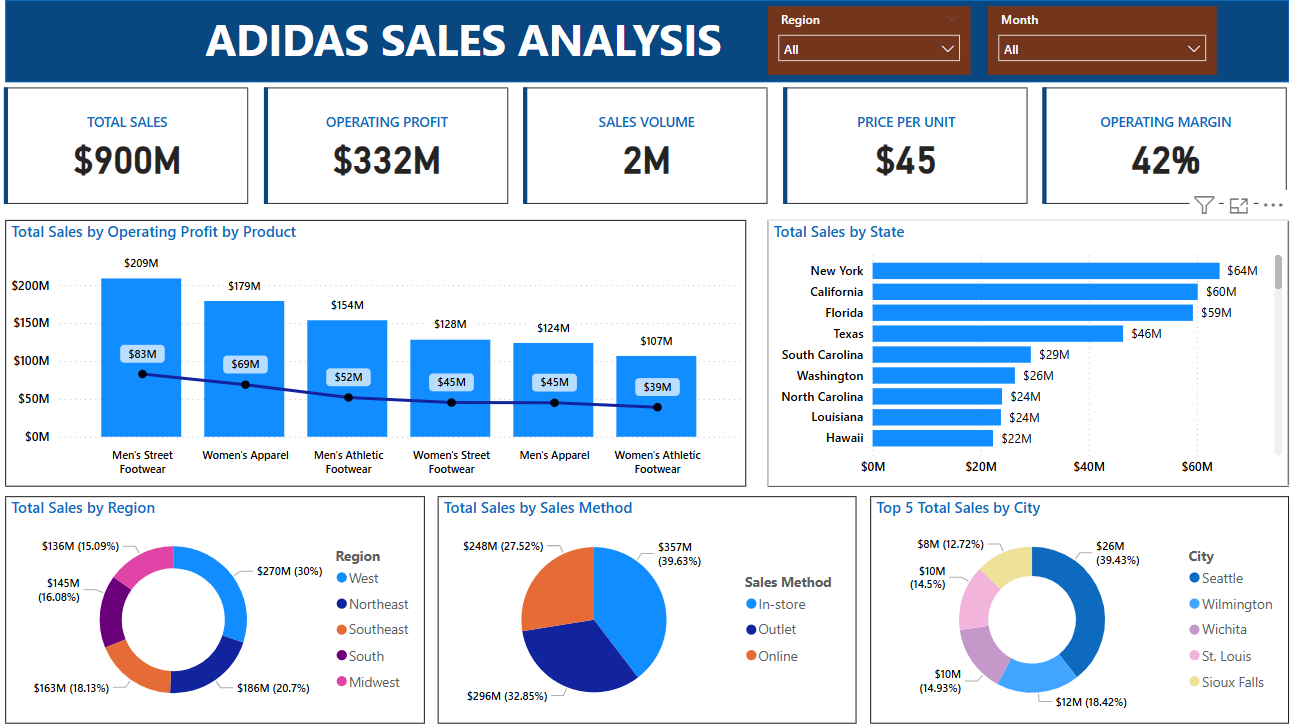

This screenshot's page, from the dashboard's own definition file:
{"tool":"powerbi","page":{"name":"Page 1","canvas":[1280,720],"ordinal":0},"visuals":[{"type":"shape","box":[11,0,1255.8,80.7],"z":0},{"type":"textbox","box":[201.8,3.7,534.4,69.7],"z":1000},{"type":"cardVisual","fields":{"Data":["Sum(Data Sales Adidas.Total Sales)","Sum(Data Sales Adidas.Operating Profit)","Sum(Data Sales Adidas.Units Sold)","Avg(Data Sales Adidas.Price per Unit)","Avg(Data Sales Adidas.Operating Margin)"]},"box":[4.9,80.7,1268.1,124.7],"z":2000},{"type":"lineStackedColumnComboChart","title":"Total Sales by Operating Profit by Product","fields":{"Y":["Sum(Data Sales Adidas.Total Sales)"],"Category":["Data Sales Adidas.Product"],"Y2":["Sum(Data Sales Adidas.Operating Profit)"]},"box":[11,215.2,725.1,260.5],"z":3000},{"type":"clusteredBarChart","title":"Total Sales by State","fields":{"Category":["Data Sales Adidas.State"],"Y":["Sum(Data Sales Adidas.Total Sales)"]},"box":[756.9,215.2,509.9,260.5],"z":4000},{"type":"donutChart","title":"Total Sales by Region","fields":{"Category":["Data Sales Adidas.Region"],"Y":["Sum(Data Sales Adidas.Total Sales)"]},"box":[11,485.5,410,222.6],"z":5000},{"type":"pieChart","title":"Total Sales by Sales Method","fields":{"Y":["Sum(Data Sales Adidas.Total Sales)"],"Category":["Data Sales Adidas.Sales Method"]},"box":[434.1,485.5,409.6,222.6],"z":6000},{"type":"donutChart","title":"Top 5 Total Sales by City","fields":{"Y":["Sum(Data Sales Adidas.Total Sales)"],"Category":["Data Sales Adidas.City"]},"box":[857.2,485.5,409.6,222.6],"z":7000},{"type":"slicer","fields":{"Values":["Data Sales Adidas.Region"]},"box":[756.9,6.1,198.1,67.3],"z":8000},{"type":"slicer","fields":{"Values":["Data Sales Adidas.Invoice Date.Variation.Date Hierarchy.Month"]},"box":[972.2,6.1,223.8,67.3],"z":9000}]}

Visuals, with their boxes in screenshot pixels (x1, y1, x2, y2), scaled from the page's 1280x720 canvas onto the 1296x727 screenshot:
shape: region(11, 0, 1283, 81)
textbox: region(204, 4, 745, 74)
cardVisual - Sum(Data Sales Adidas.Total Sales) x Sum(Data Sales Adidas.Operating Profit): region(5, 81, 1289, 207)
"Total Sales by Operating Profit by Product" lineStackedColumnComboChart: region(11, 217, 745, 480)
"Total Sales by State" clusteredBarChart: region(766, 217, 1283, 480)
"Total Sales by Region" donutChart: region(11, 490, 426, 715)
"Total Sales by Sales Method" pieChart: region(440, 490, 854, 715)
"Top 5 Total Sales by City" donutChart: region(868, 490, 1283, 715)
slicer - Data Sales Adidas.Region: region(766, 6, 967, 74)
slicer - Data Sales Adidas.Invoice Date.Variation.Date Hierarchy.Month: region(984, 6, 1211, 74)
